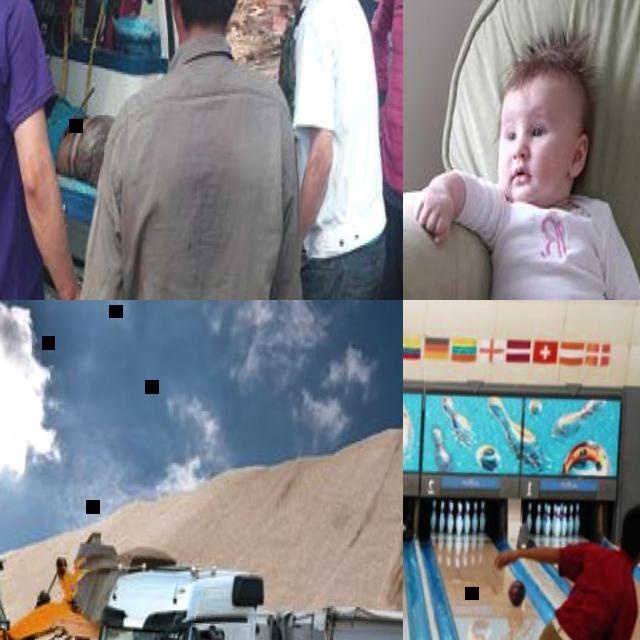Hardhat: (76, 0, 335, 300), (0, 0, 114, 300)
NO-Hardhat: (501, 45, 592, 114), (622, 503, 640, 540)
NO-Mask: (499, 160, 556, 204)
NO-Safety Vest: (121, 62, 292, 300), (293, 0, 394, 256), (0, 0, 59, 300), (489, 201, 614, 300), (553, 544, 635, 640), (374, 0, 403, 212), (352, 0, 390, 110), (277, 25, 298, 97)
Person: (403, 39, 640, 300), (251, 0, 403, 300), (467, 494, 640, 640), (343, 0, 403, 300), (276, 0, 340, 107)
machinery: (82, 550, 403, 640), (0, 512, 176, 640)
vehicle: (0, 0, 403, 300)
